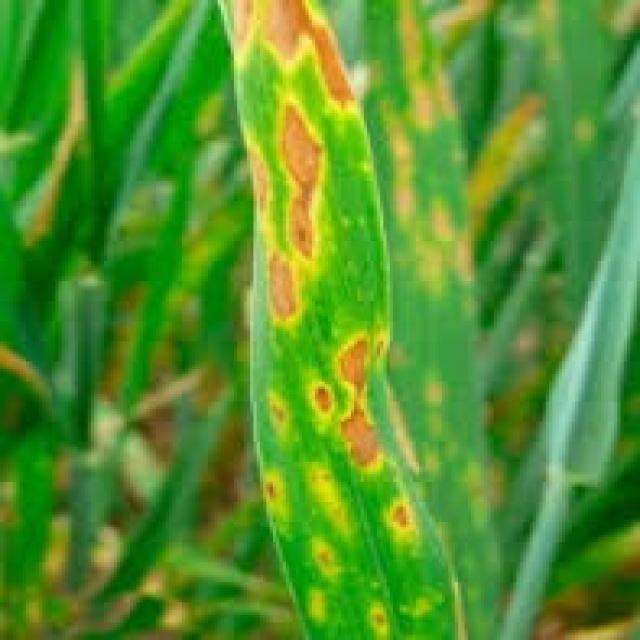wheat-septoria: (220, 0, 461, 640)
